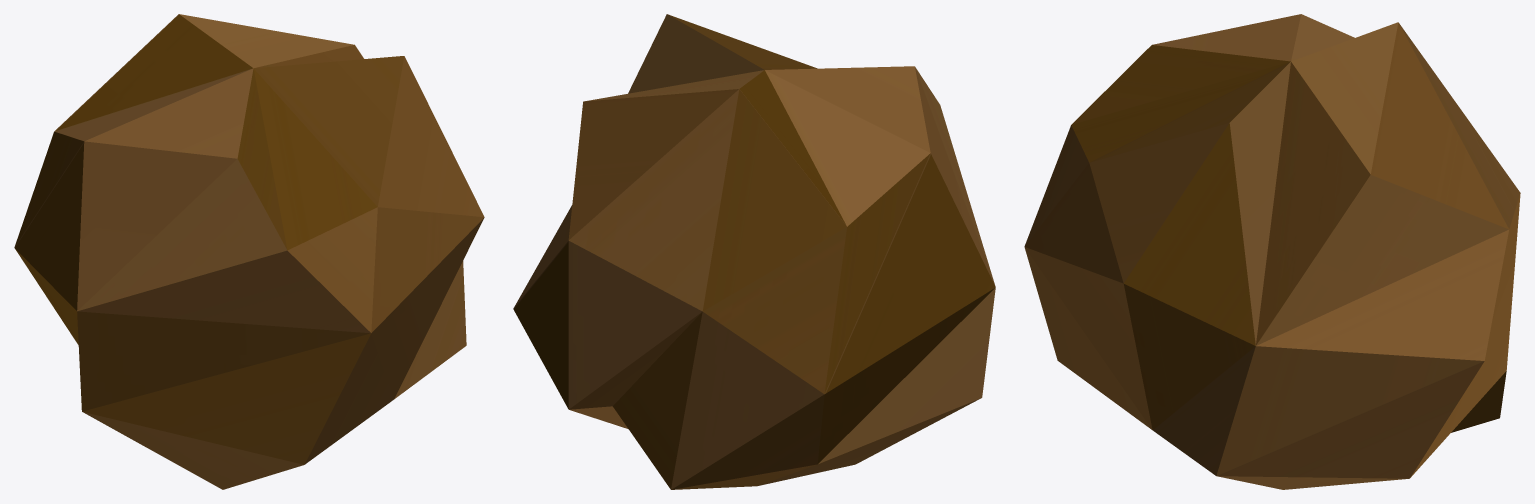
File: small rock_brown v3.fbx
3 renders of one model, left to right at view 1: azimuth 30°, elevation 25°; view 2: azimuth 150°, elevation 25°; view 3: azimuth 270°, elevation 25°, orthographic. The views are drawn at different scales.
Visible parts, largest first — view 1: Landscape; view 2: Landscape; view 3: Landscape.
Boxes of the visible parts, <box> form: Landscape: <box>14,14,484,489</box>; Landscape: <box>513,14,995,489</box>; Landscape: <box>1024,14,1520,489</box>.
Size of the model in its own units: 218 by 222 by 222.
